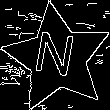N_S: (34, 30, 81, 86)
